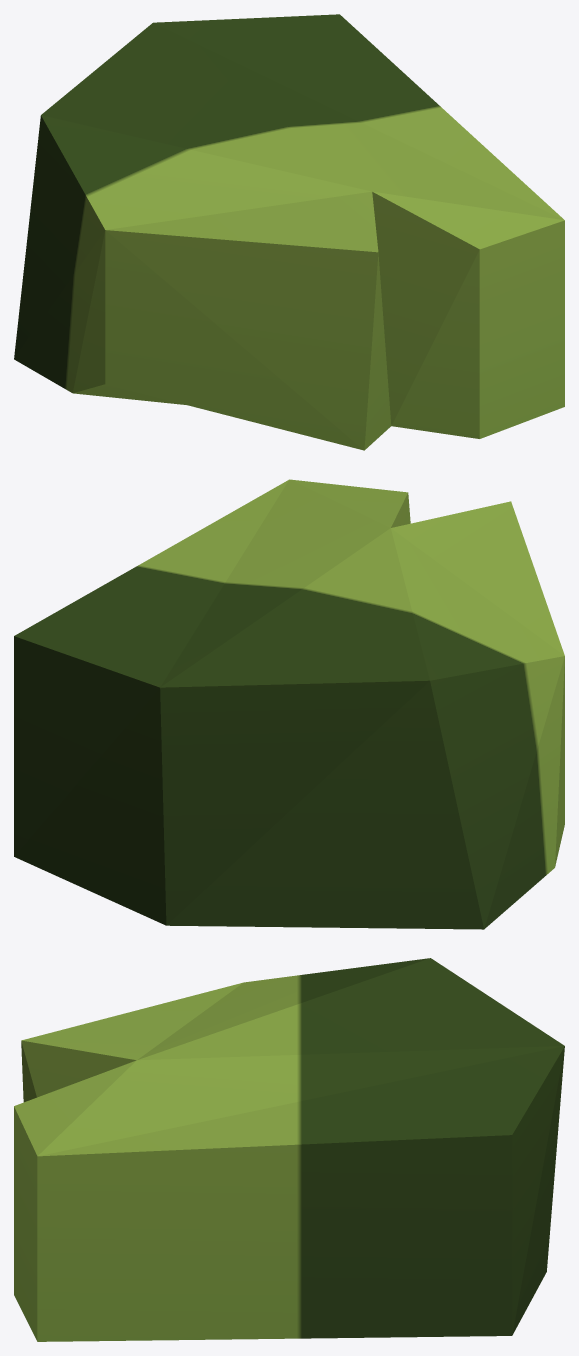
File: Rock_14.fbx
3 views of the same model, one above another, from view 1: azimuth 30°, elevation 25°; view 2: azimuth 150°, elevation 25°; view 3: azimuth 270°, elevation 25° (orthographic). The views are drawn at different scales.
Parts seen in each view (by area): view 1: Rock_14; view 2: Rock_14; view 3: Rock_14.
Part boxes in pixels (<box>): Rock_14: <box>14,14,564,450</box>; Rock_14: <box>14,479,564,929</box>; Rock_14: <box>14,958,564,1341</box>.
Size of the model in its own units: 1.02 by 0.5817 by 1.29.
